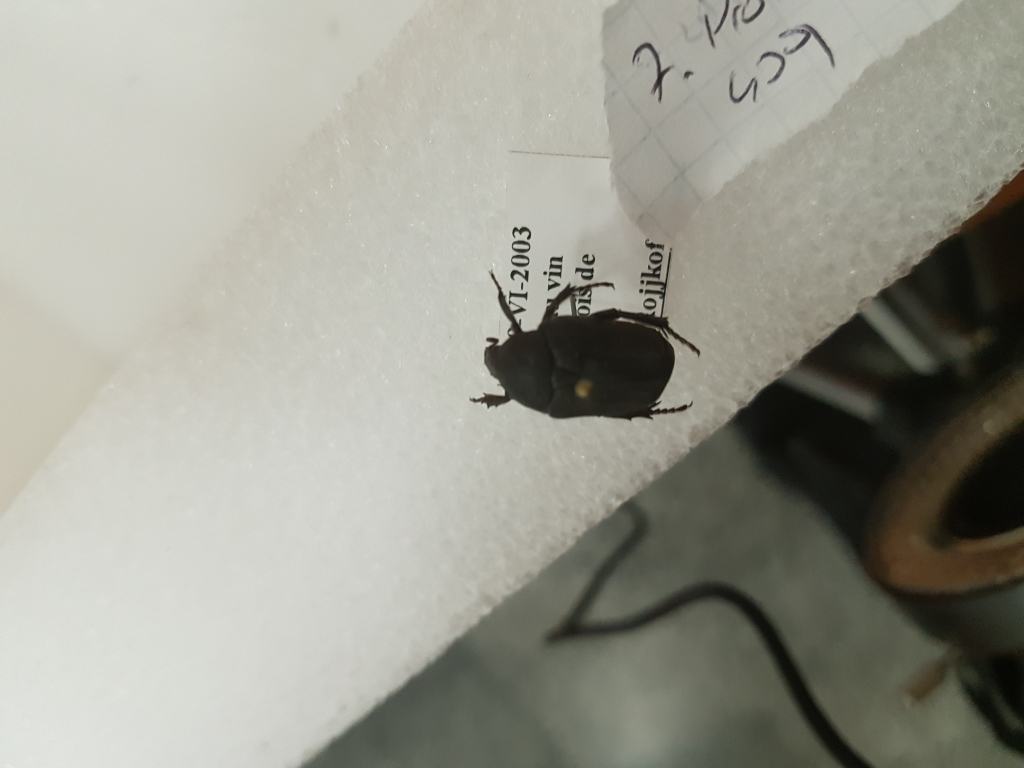Protaetia_morio_morio: (468, 262, 713, 431)
